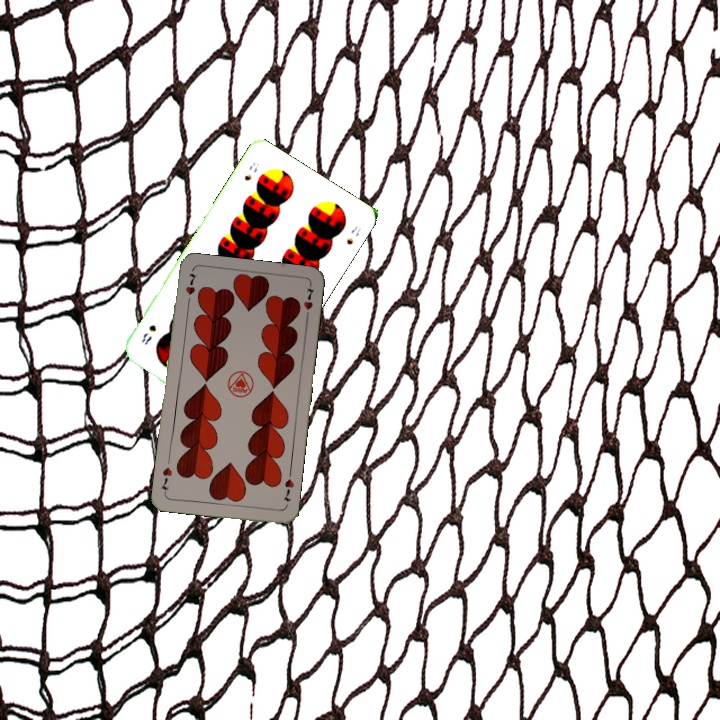H7: (181, 268, 199, 308), (279, 475, 296, 504)
S8: (240, 158, 262, 183)
